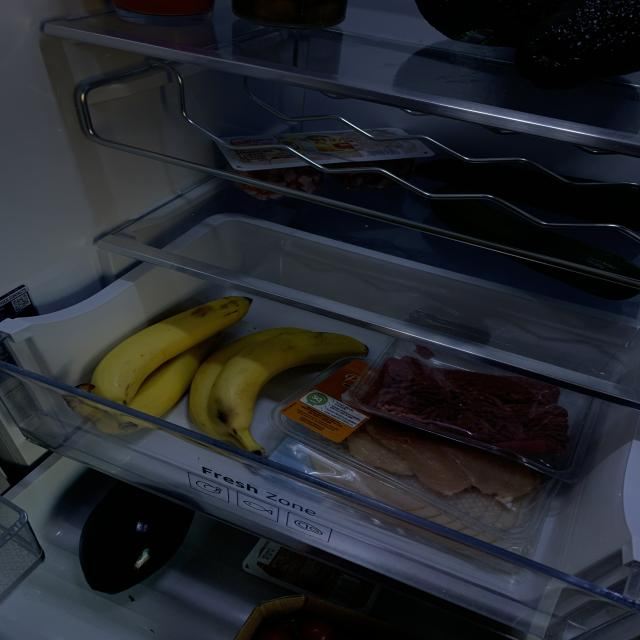aubergine: (82, 481, 196, 593), (416, 0, 522, 47)
avocado: (523, 0, 640, 78)
bacon: (230, 167, 318, 197), (329, 160, 406, 190)
banana: (85, 290, 362, 454)
cherry_tomato: (263, 616, 333, 640)
chicken_breast: (352, 422, 528, 499)
courgettes: (412, 188, 640, 296)
ground_beef: (373, 356, 579, 452)
ham: (306, 452, 522, 541)
olives: (231, 0, 349, 24)
tomato_sauce: (111, 0, 215, 15)
